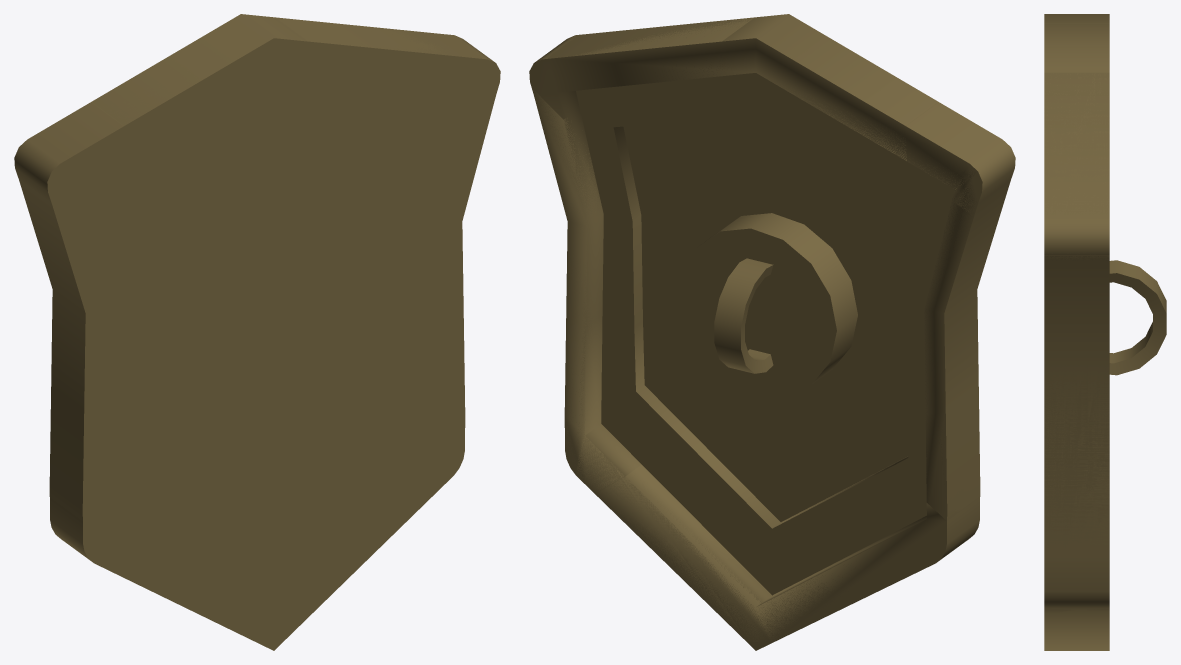
File: Shield_1.fbx
3 views of the same model, side by side, from view 1: azimuth 30°, elevation 25°; view 2: azimuth 150°, elevation 25°; view 3: azimuth 270°, elevation 25° (orthographic).
Parts seen in each view (by area): view 1: Shield_Shield, Cylinder.012_cell.003, Cylinder.012_cell.004, Cylinder.012_cell.001, Cylinder.012_cell.002, Cylinder.012_cell.008, Cylinder.012_cell.007; view 2: Shield_Shield, Cylinder.012_cell.007, Cylinder.012_cell.002, Cylinder.012_cell.003, Cylinder.012_cell.001, Cylinder.012_cell.008, Cylinder.012_cell.004; view 3: Shield_Shield, Cylinder.012_cell.002, Cylinder.012_cell.004, Cylinder.012_cell.003, Cylinder.012_cell.008.
Boxes of the visible parts, <box> form: Shield_Shield: <box>14,14,498,650</box>; Cylinder.012_cell.003: <box>91,14,321,210</box>; Cylinder.012_cell.004: <box>309,26,500,189</box>; Cylinder.012_cell.001: <box>53,165,149,512</box>; Cylinder.012_cell.002: <box>399,89,497,483</box>; Cylinder.012_cell.008: <box>14,102,123,217</box>; Cylinder.012_cell.007: <box>50,464,407,560</box>; Shield_Shield: <box>529,17,1015,649</box>; Cylinder.012_cell.007: <box>595,434,979,642</box>; Cylinder.012_cell.002: <box>532,88,655,493</box>; Cylinder.012_cell.003: <box>718,14,938,160</box>; Cylinder.012_cell.001: <box>904,167,980,511</box>; Cylinder.012_cell.008: <box>906,102,1015,216</box>; Cylinder.012_cell.004: <box>535,17,753,80</box>; Shield_Shield: <box>1044,23,1166,650</box>; Cylinder.012_cell.002: <box>1044,255,1109,612</box>; Cylinder.012_cell.004: <box>1044,73,1109,254</box>; Cylinder.012_cell.003: <box>1044,23,1109,72</box>; Cylinder.012_cell.008: <box>1044,14,1109,22</box>.
Bounding box in the file's own units: 1.51 × 1.95 × 0.3563.
